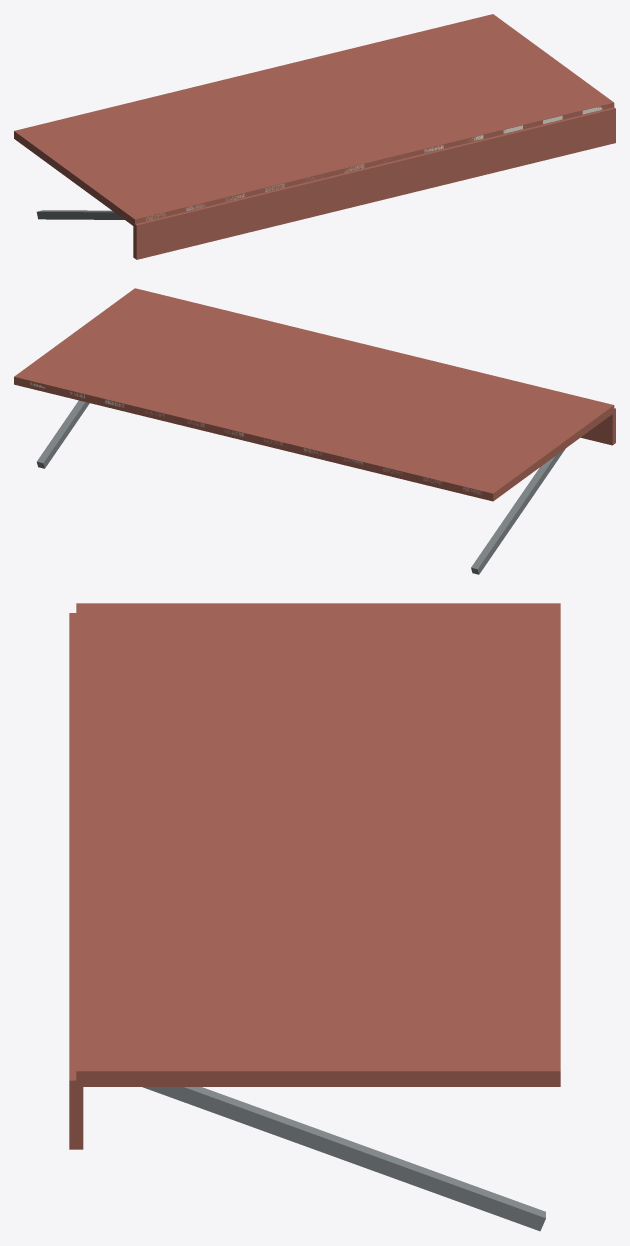
3 renders of one model, top to bottom at view 1: azimuth 30°, elevation 25°; view 2: azimuth 150°, elevation 25°; view 3: azimuth 270°, elevation 25°, orthographic. The views are drawn at different scales.
Visible parts, largest first — view 1: QH-A0061_V02_geometry; view 2: QH-A0061_V02_geometry; view 3: QH-A0061_V02_geometry.
Boxes of the visible parts, x1,y1,x2,y2 form: QH-A0061_V02_geometry: (14,14,615,259); QH-A0061_V02_geometry: (14,288,615,574); QH-A0061_V02_geometry: (69,603,560,1231).
Size of the model in its own units: 3.2 by 0.5709 by 1.42.
